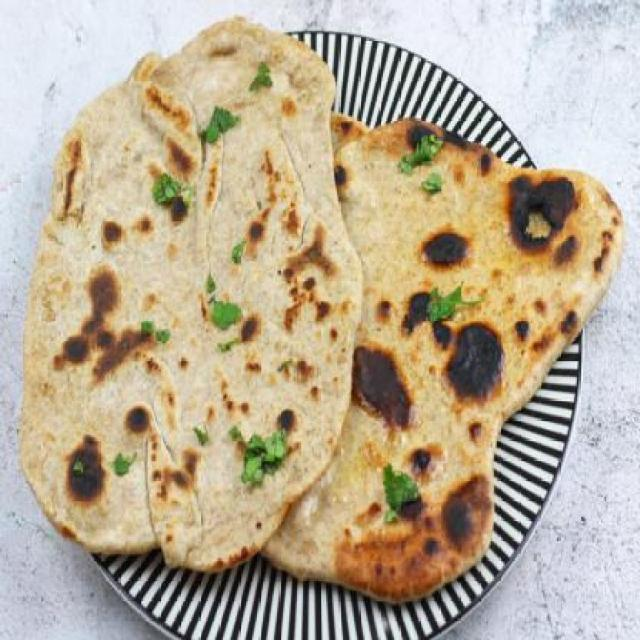chapati: (20, 18, 363, 570), (262, 111, 624, 603)
